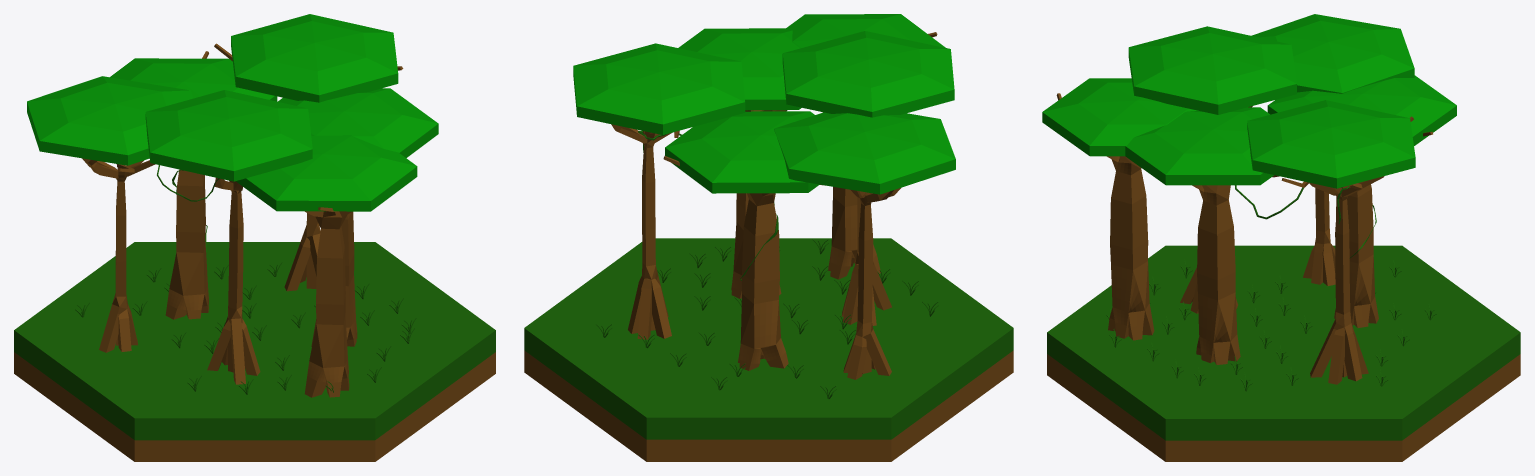
Rendered from HexagonRainforest.fbx.
3 renders of one model, left to right at view 1: azimuth 30°, elevation 25°; view 2: azimuth 150°, elevation 25°; view 3: azimuth 270°, elevation 25°, orthographic. The views are drawn at different scales.
Parts seen in each view (by area): view 1: Hexagon, Tree1, tree6, tree3, tree5, tree2, tree4; view 2: Hexagon, tree3, tree5, tree2, Tree1, tree4, tree6; view 3: Hexagon, tree3, tree4, tree6, Tree1, tree5, tree2.
Boxes of the visible parts, x1=… form: Hexagon: x1=14, y1=242, x2=495, y2=461; Tree1: x1=145, y1=90, x2=312, y2=384; tree6: x1=236, y1=135, x2=417, y2=397; tree3: x1=214, y1=14, x2=403, y2=291; tree5: x1=27, y1=76, x2=192, y2=352; tree2: x1=110, y1=51, x2=277, y2=319; tree4: x1=278, y1=88, x2=438, y2=346; Hexagon: x1=524, y1=238, x2=1013, y2=461; tree3: x1=573, y1=43, x2=745, y2=339; tree5: x1=774, y1=112, x2=955, y2=379; tree2: x1=663, y1=111, x2=819, y2=370; Tree1: x1=782, y1=31, x2=954, y2=325; tree4: x1=678, y1=28, x2=801, y2=298; tree6: x1=786, y1=14, x2=945, y2=279; Hexagon: x1=1047, y1=245, x2=1520, y2=461; tree3: x1=1247, y1=100, x2=1415, y2=384; tree4: x1=1125, y1=107, x2=1279, y2=364; tree6: x1=1042, y1=78, x2=1198, y2=340; Tree1: x1=1128, y1=26, x2=1296, y2=313; tree5: x1=1251, y1=14, x2=1414, y2=285; tree2: x1=1267, y1=75, x2=1456, y2=327.
Bounding box in the file's own units: 182 × 136 × 202.
